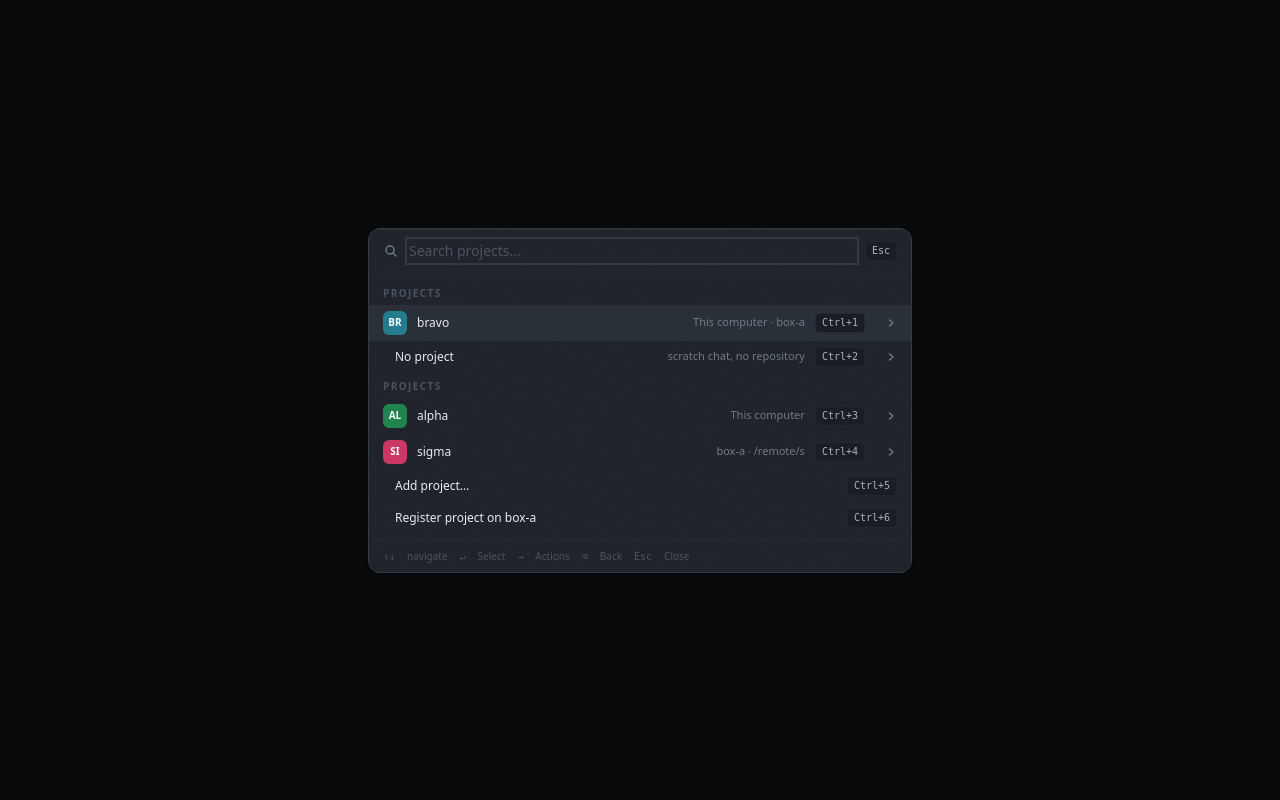
Test: ProjectQuickOpen pages (issue #919) › omits open rows for a remote target and never probes
The image size is (1280, 800).
Click the button named "actions for sigma" at (891, 452), box x1=879 y1=440 x2=903 y2=464
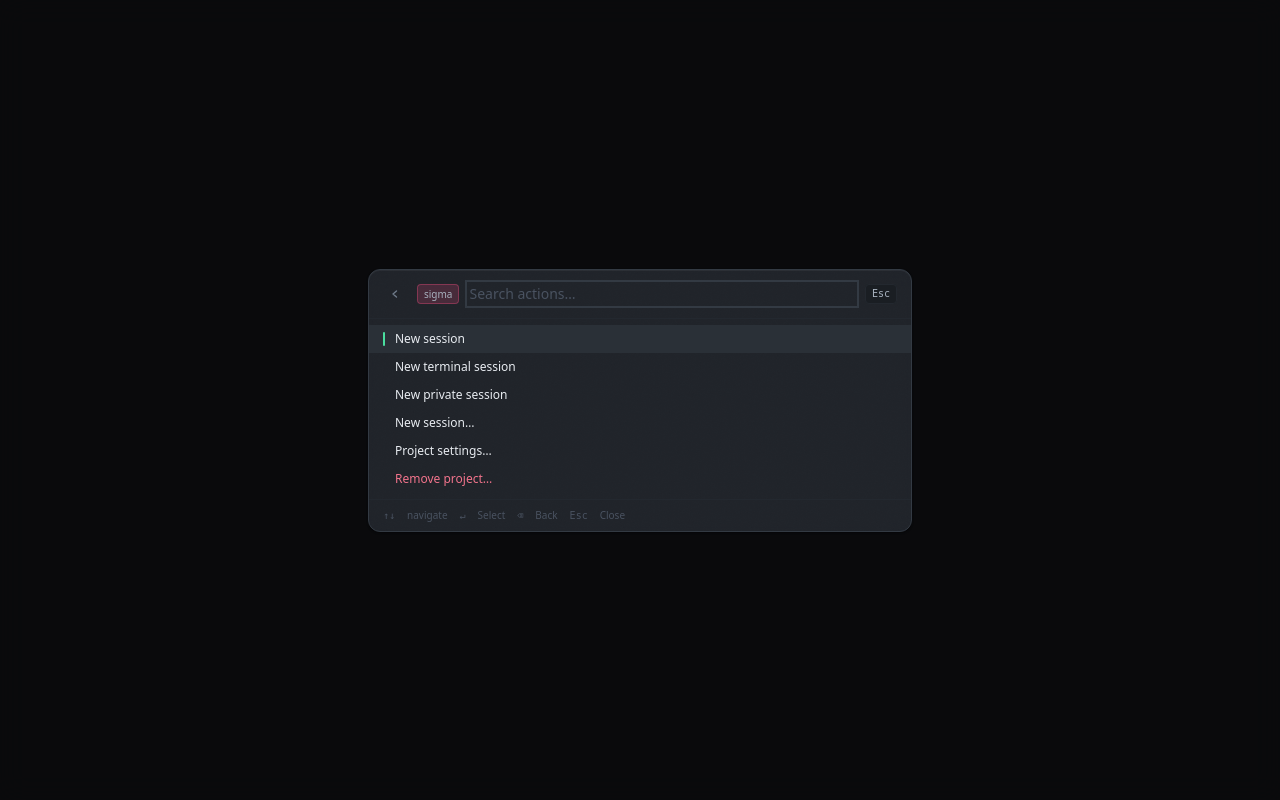
Check: the text "New session" is shown, box x1=395 y1=330 x2=465 y2=346
